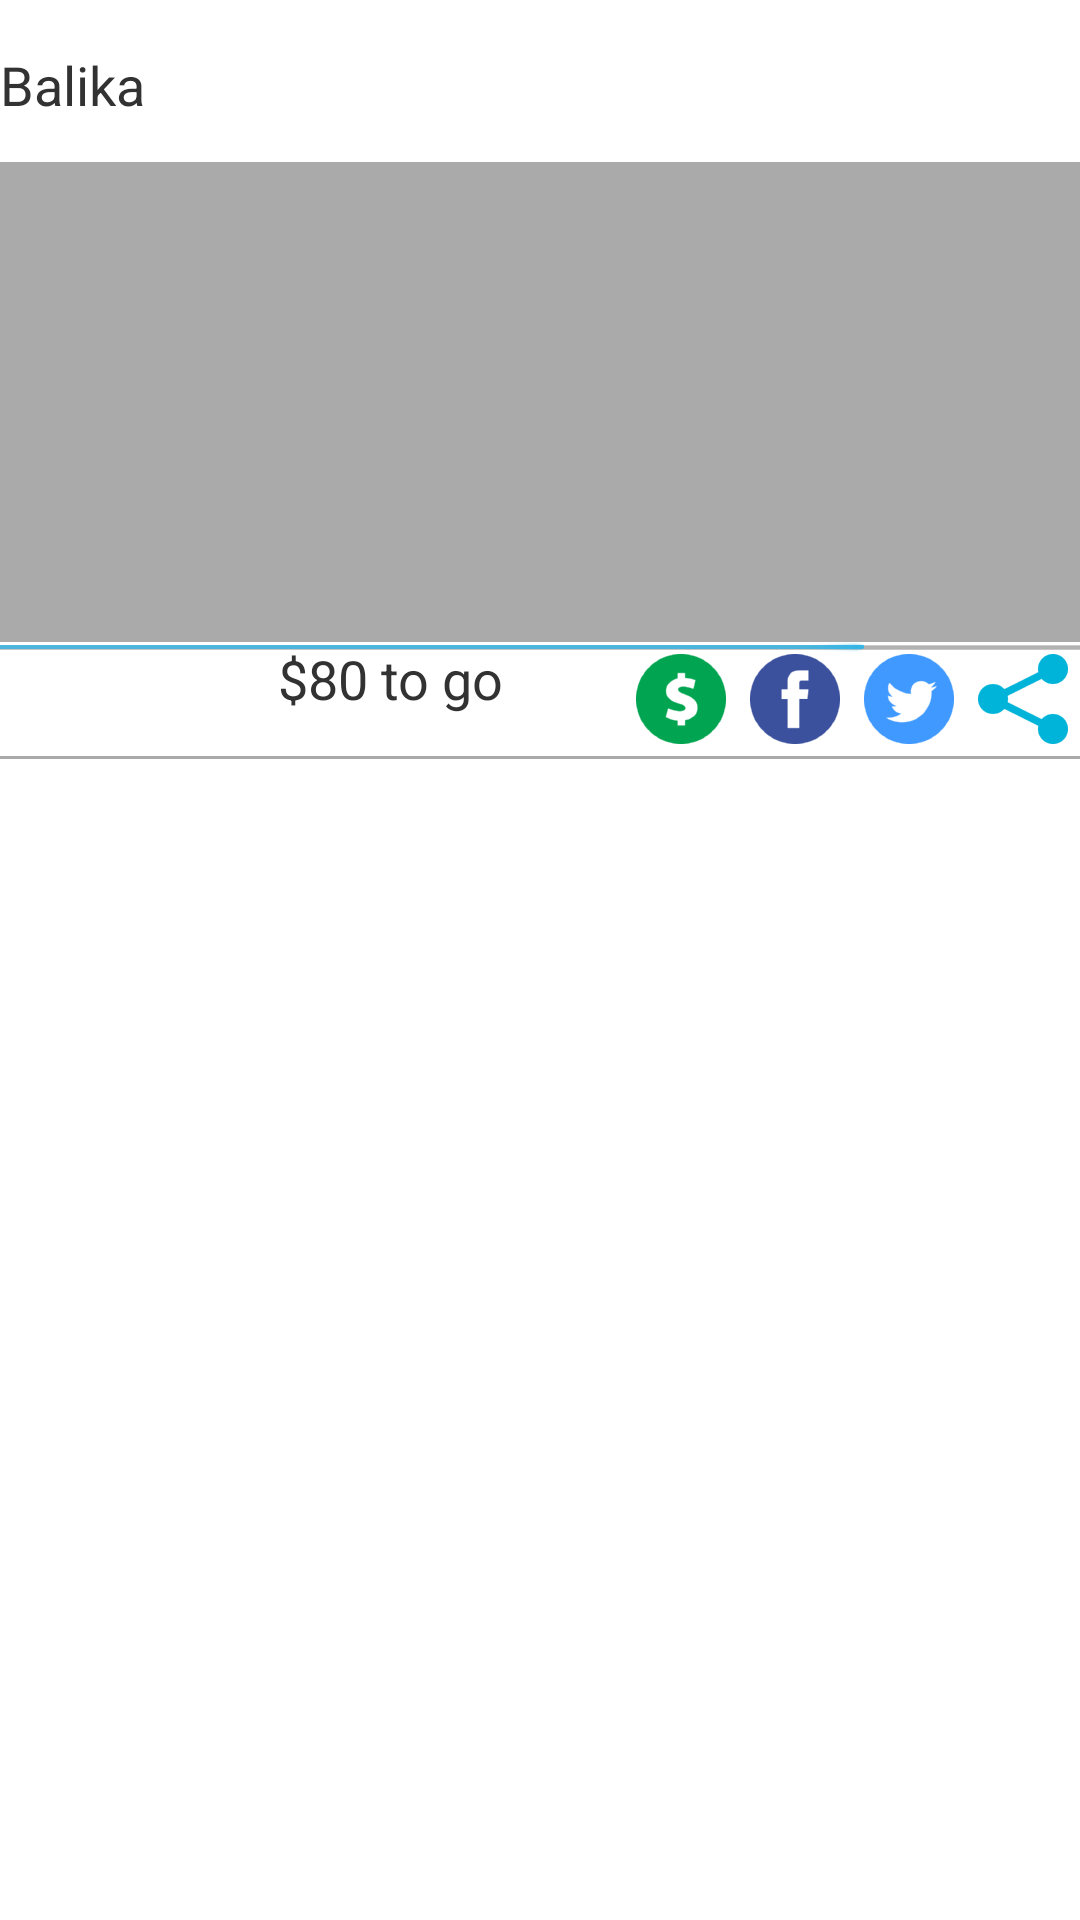

Icons on this 1080w x 1920h Android screen, each with the point to tap as [x,y]:
fund: [681,699]
share: [1023,699]
